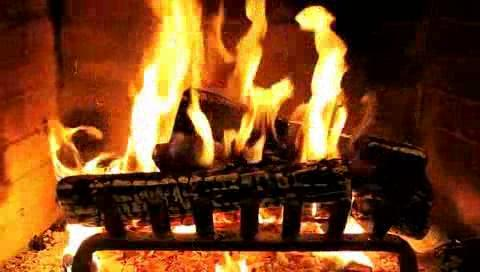fire: (119, 6, 348, 196)
